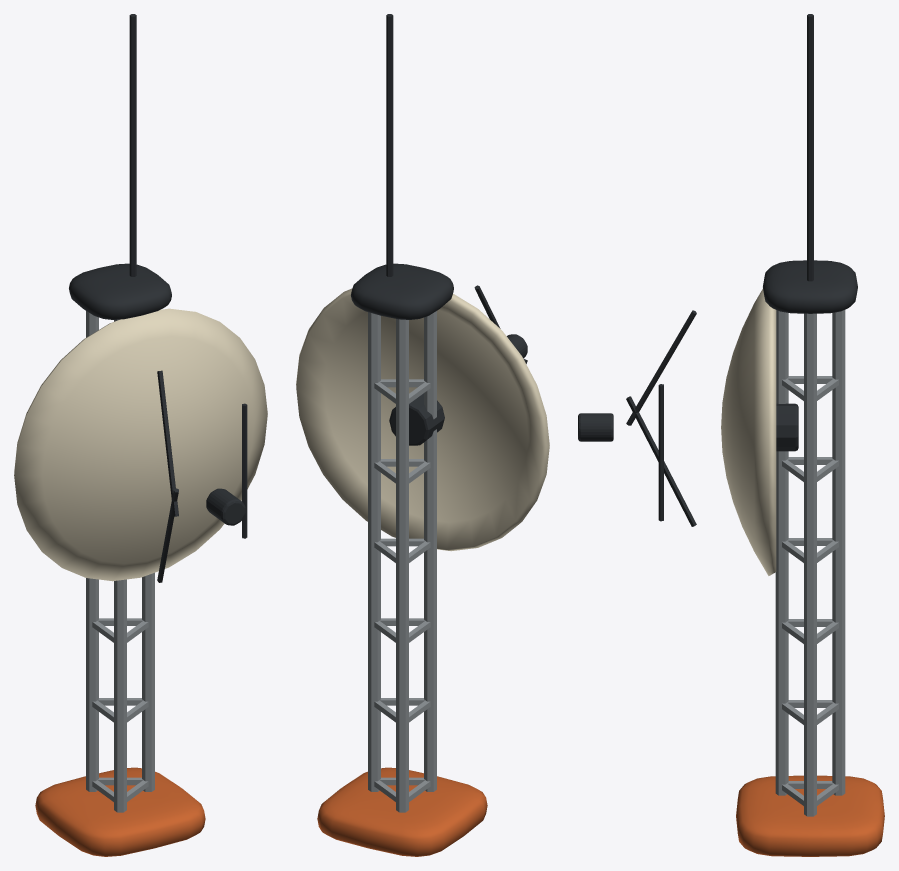
File: prop_mast.glb
The picture shows the model from 3 angles, left to right: view 1: azimuth 30°, elevation 25°; view 2: azimuth 150°, elevation 25°; view 3: azimuth 270°, elevation 25°; orthographic projection.
Parts seen in each view (by area): view 1: Dish_bowl, foot, cap, leg1, leg2, leg0, whip, Dish_feed, Dish_strut1, Dish_strut0, Dish_strut2; view 2: Dish_bowl, foot, leg2, leg0, leg1, cap, whip, Dish_mount; view 3: Dish_bowl, foot, leg0, leg2, leg1, cap, whip, Dish_mount, Dish_feed, Dish_strut0, Dish_strut2, Dish_strut1.
Boxes of the visible parts, x1,y1,x2,y2 form: Dish_bowl: (14, 308, 267, 581); foot: (35, 767, 205, 856); cap: (69, 263, 171, 319); leg1: (114, 319, 126, 812); leg2: (86, 311, 98, 791); leg0: (142, 572, 154, 791); whip: (129, 14, 136, 276); Dish_feed: (206, 488, 245, 525); Dish_strut1: (157, 370, 178, 516); Dish_strut0: (242, 403, 247, 538); Dish_strut2: (157, 488, 178, 582); Dish_bowl: (296, 288, 549, 551); foot: (317, 767, 487, 856); leg2: (396, 319, 408, 812); leg0: (368, 312, 380, 791); leg1: (424, 311, 436, 791); cap: (351, 263, 453, 319); whip: (386, 14, 393, 276); Dish_mount: (389, 393, 444, 445); Dish_bowl: (721, 289, 776, 575); foot: (736, 775, 884, 856); leg0: (804, 313, 816, 816); leg2: (832, 310, 845, 795); leg1: (775, 310, 788, 795); cap: (763, 260, 857, 313); whip: (807, 14, 813, 281); Dish_mount: (776, 403, 798, 451); Dish_feed: (578, 413, 613, 441); Dish_strut0: (658, 384, 663, 521); Dish_strut2: (626, 396, 696, 526); Dish_strut1: (626, 310, 696, 425).
Size of the model in its own units: 1 by 3.05 by 1.03.
